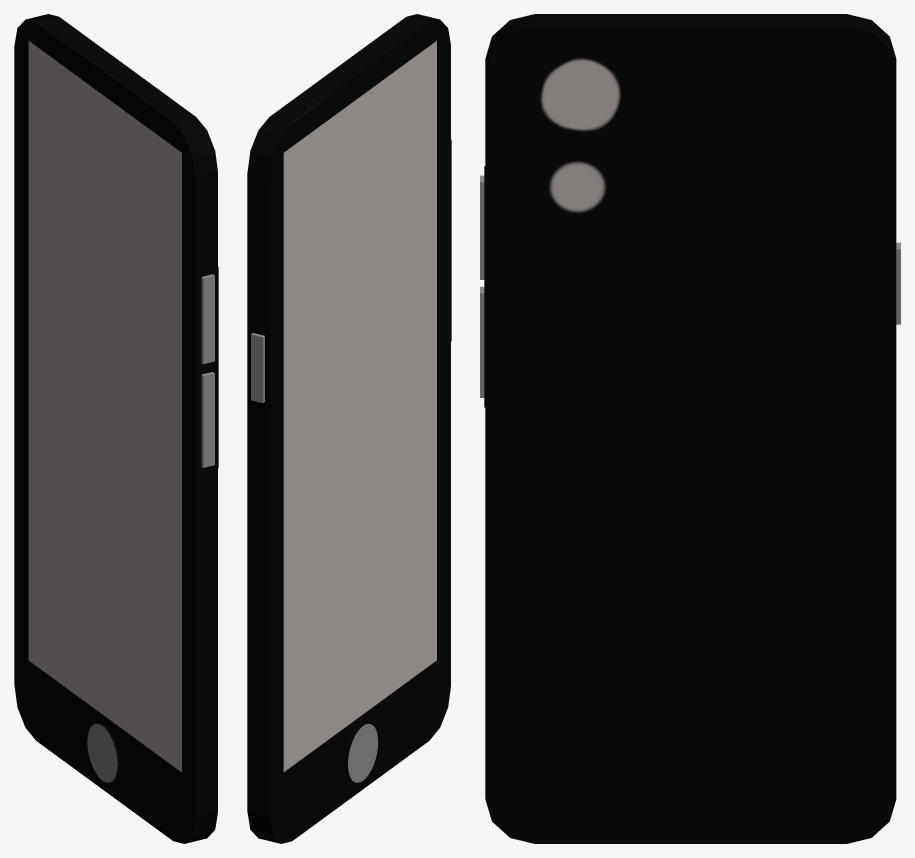
File: mobile_phone.gltf
The picture shows the model from 3 angles, left to right: view 1: azimuth 30°, elevation 25°; view 2: azimuth 150°, elevation 25°; view 3: azimuth 270°, elevation 25°; orthographic projection. The views are drawn at different scales.
Visible parts, largest first — view 1: Cube; view 2: Cube; view 3: Cube.
Boxes of the visible parts, left/top/right/bottom form: Cube: left=14, top=14, right=218, bottom=843; Cube: left=247, top=14, right=451, bottom=843; Cube: left=480, top=14, right=900, bottom=843.
Size of the model in its own units: 0.0735 by 2 by 0.9337.
Materials: 1 (1 with a texture image).
